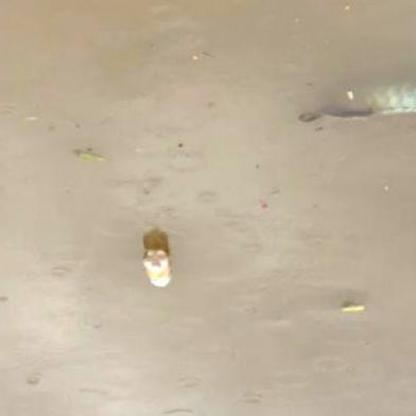plastic bottle: (143, 250, 170, 288)
